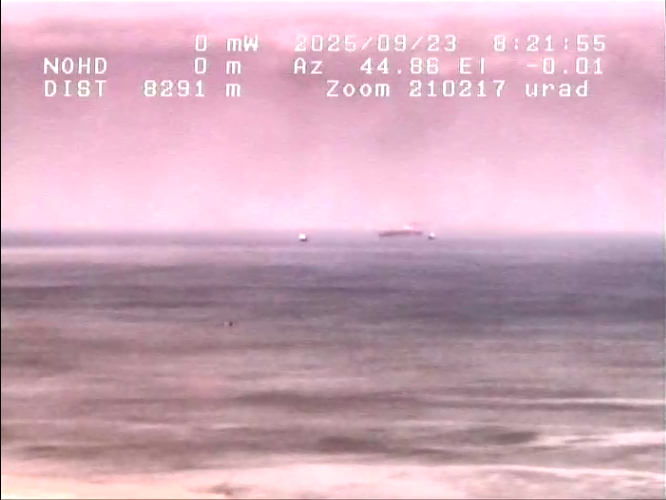TANKER: (371, 216, 424, 241), (291, 230, 318, 246)
